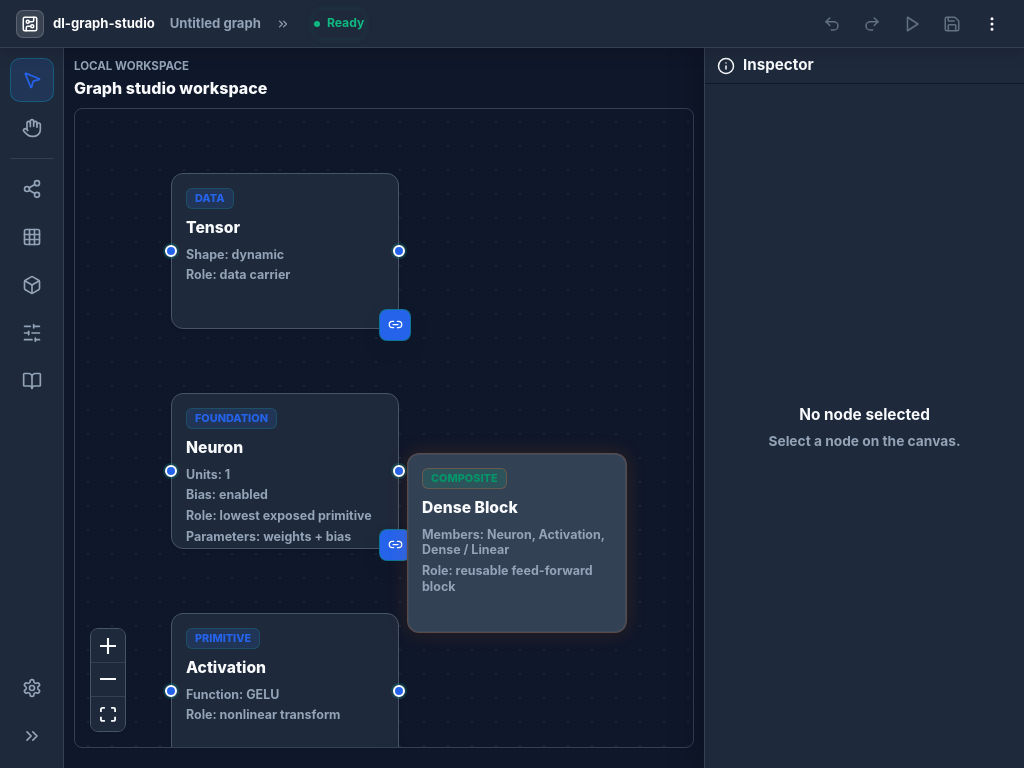
it: App shell › clears node selection when the empty canvas background is clicked
Step 1. Click the button with aria-label "neuron primitive node" → (285, 471), box [171, 393, 399, 549]
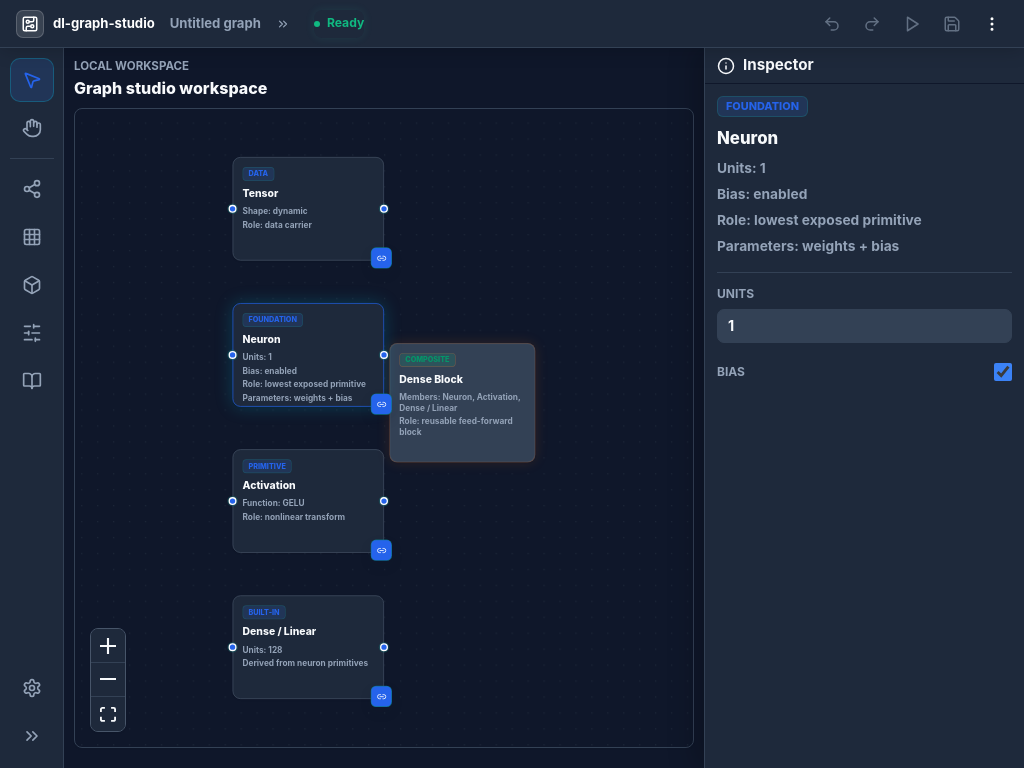
Check: the heading "Neuron" below "Inspector" is shown, box [717, 128, 778, 148]
Step 2. Click the element named "graph canvas" → (384, 428), box [74, 108, 694, 748]
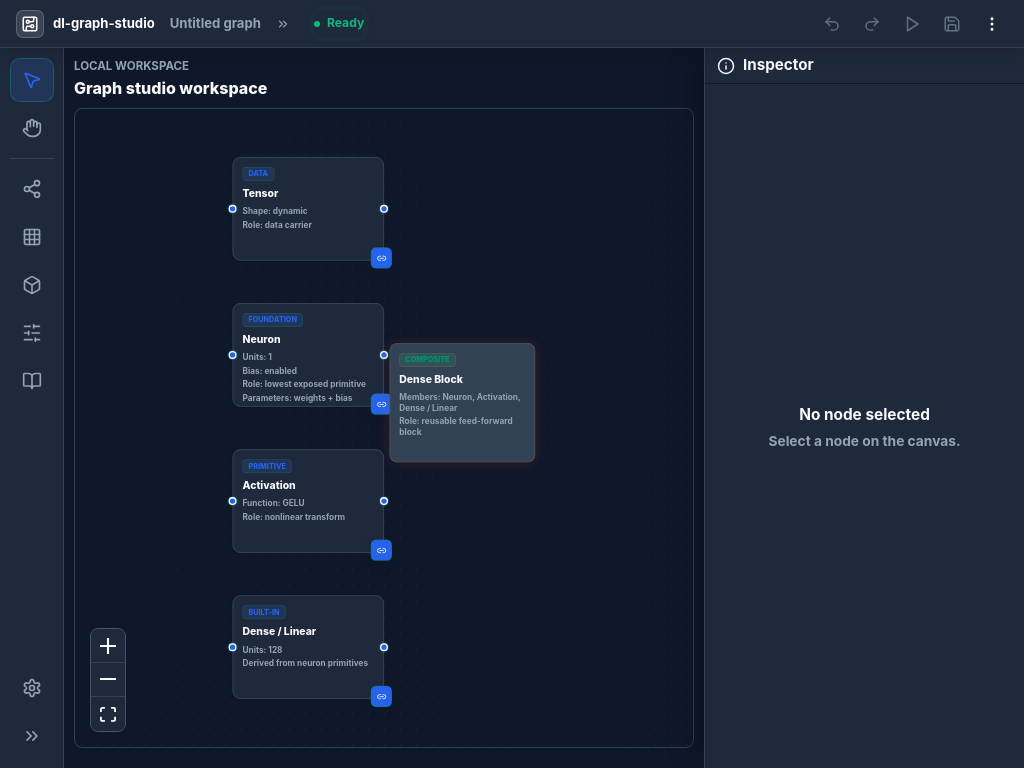
Check: the text "No node selected" is shown, box [799, 403, 930, 426]
